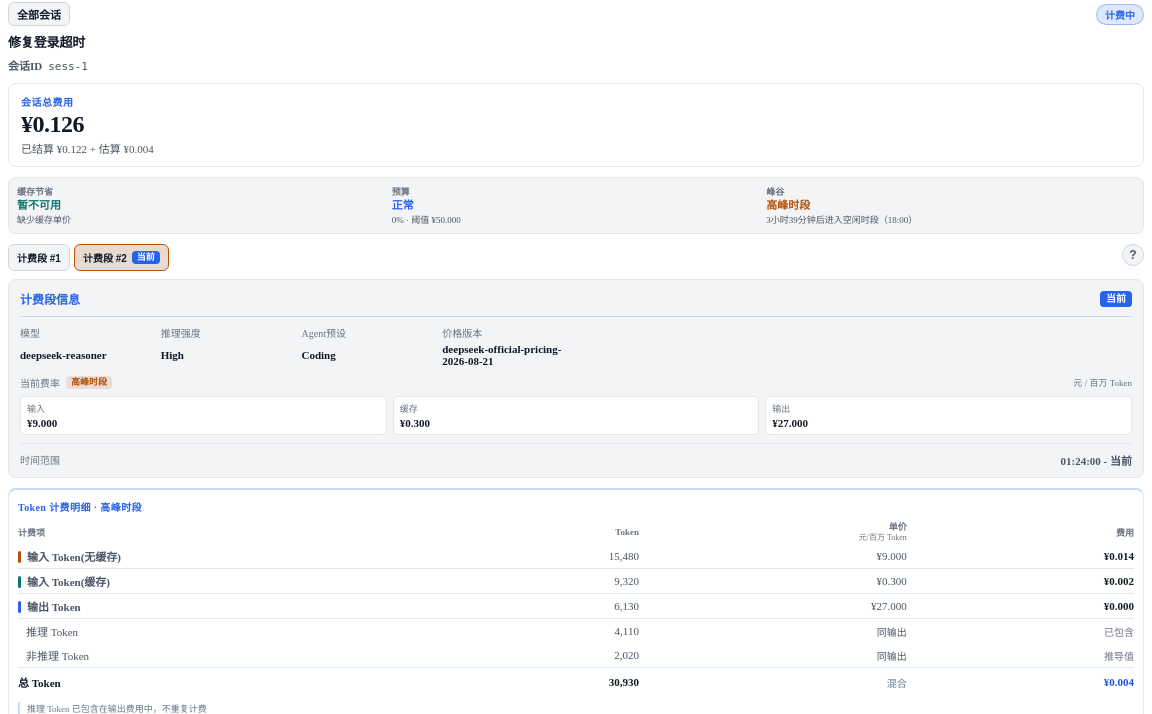
Scenario: overlay visual contract › formats turn numbers with a hash in session detail
Click the tab "计费段 #1": (39, 257) [8,244,70,271]
(page scrolled)
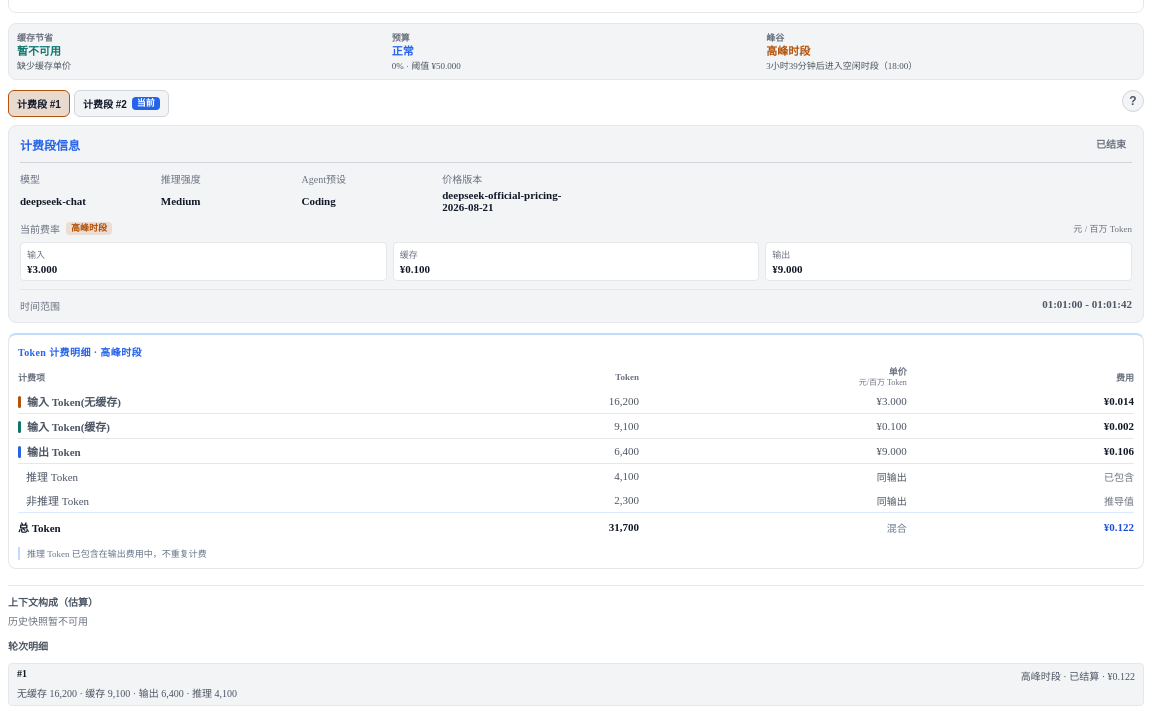
Result: the text "#1" is shown at [17,668,27,683]
